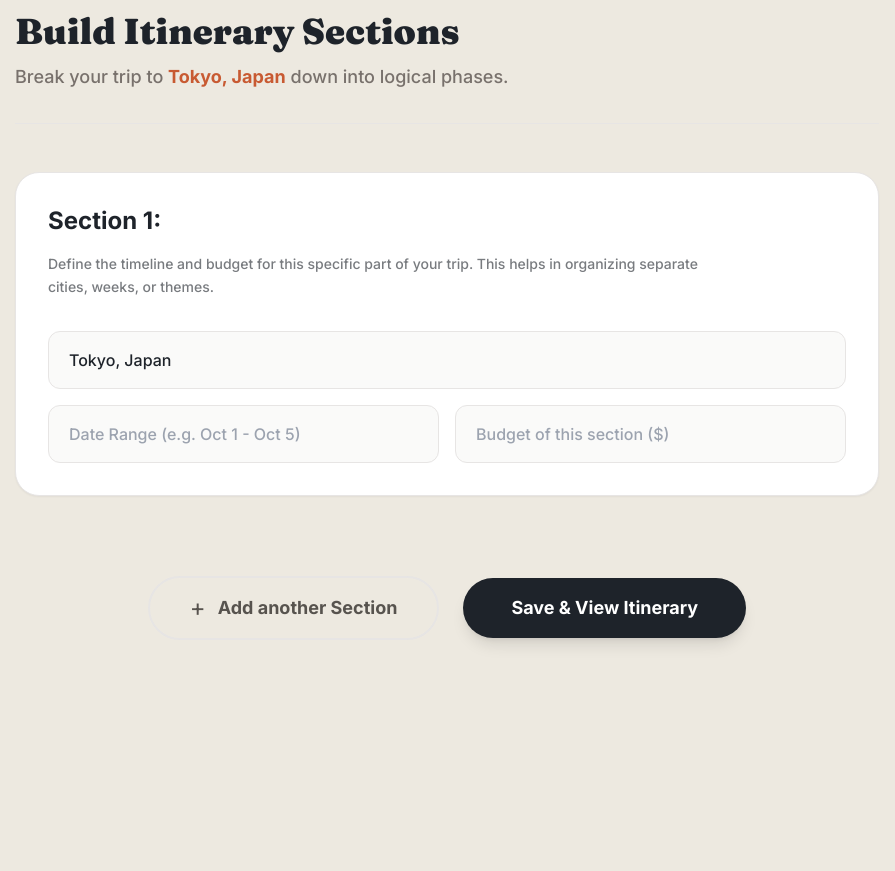
Test: BuildItinerary Component Tests › allows adding a new section
Click the button "+ Add another Section" at {"x": 294, "y": 608}, box [148,576,439,640]
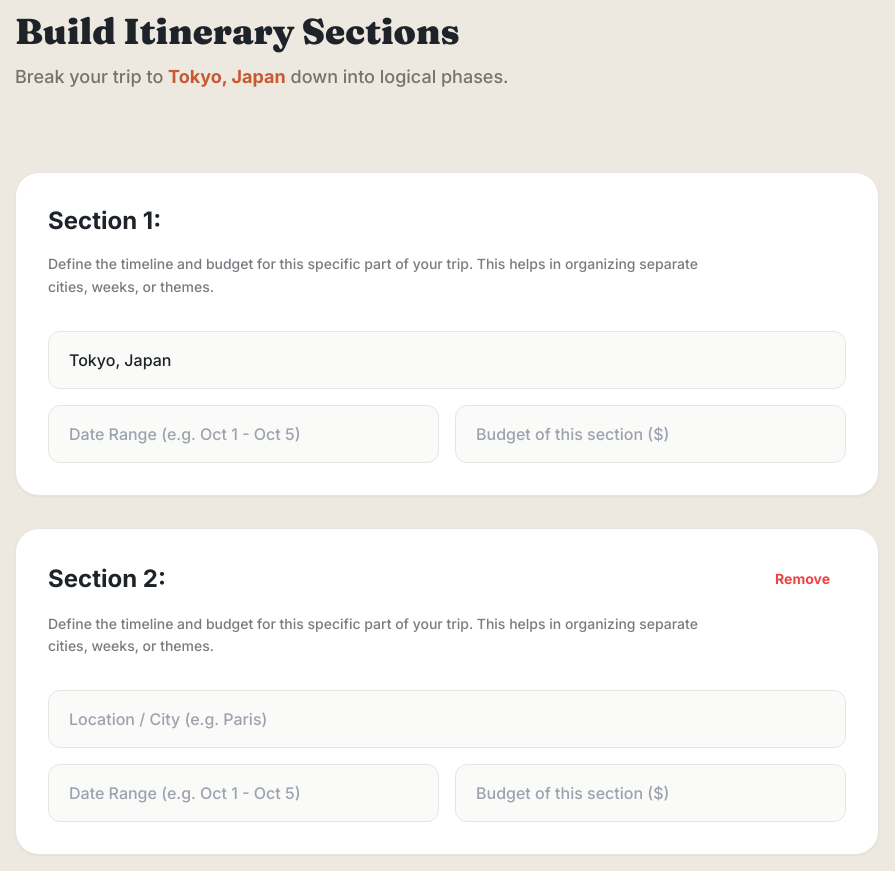
expect the heading "Section 2:" is shown: met, box [48,562,166,594]
